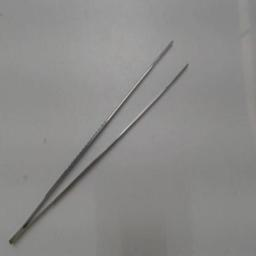DeBakey Dissector: (5, 33, 197, 251)
